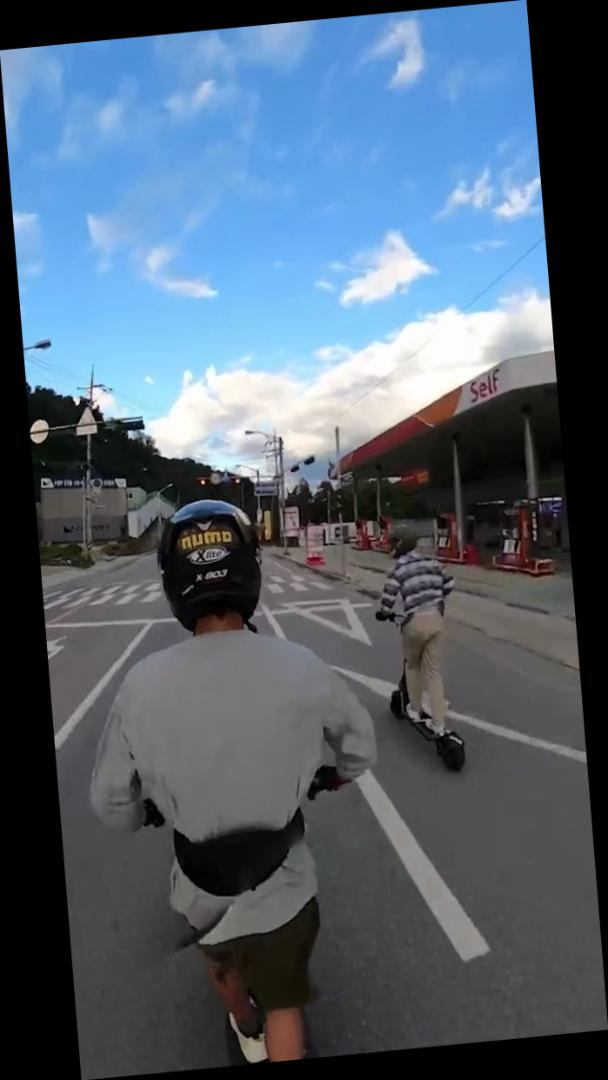helmet: (64, 481, 402, 1078), (366, 515, 472, 779)
